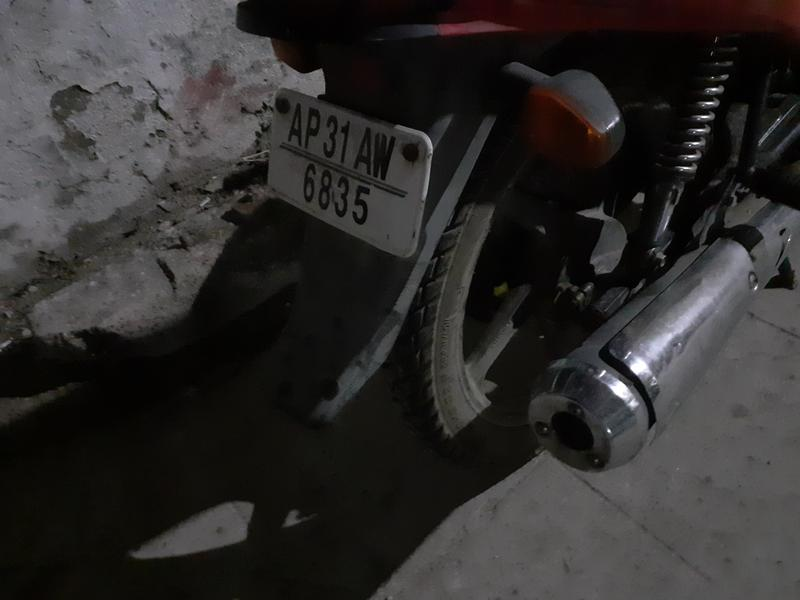numberplate: (264, 87, 428, 251)
